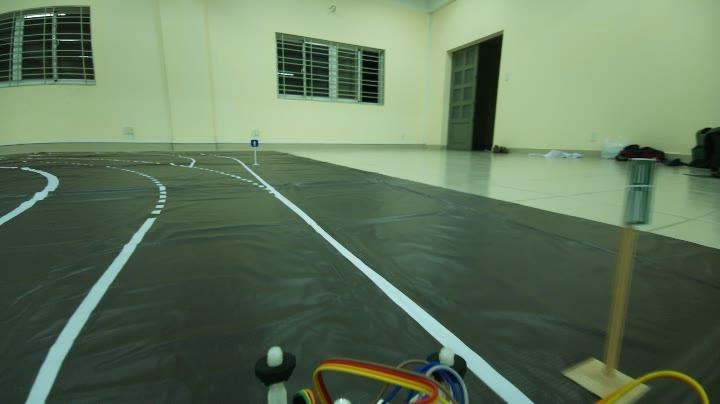highway_entry: (616, 151, 672, 234)
